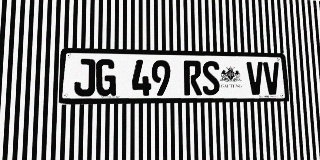4: (132, 60, 151, 96)
9: (152, 60, 171, 96)
G: (95, 59, 116, 96)
J: (74, 59, 95, 96)
R: (183, 60, 202, 95)
S: (202, 61, 220, 95)
V: (246, 62, 264, 95), (263, 62, 281, 95)
